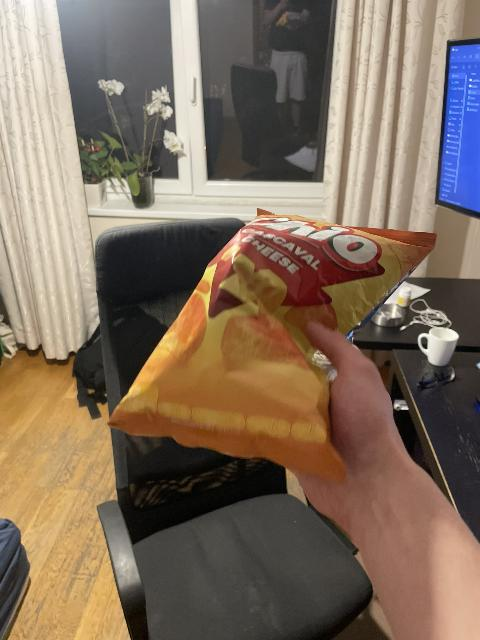Chio Cascaval 125g: (107, 204, 435, 478)
